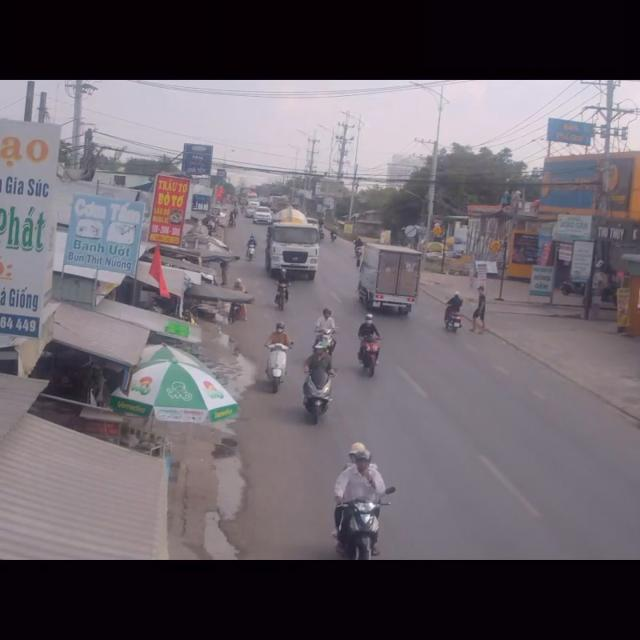motorbike: (334, 441, 388, 560), (300, 346, 333, 426), (354, 314, 380, 382), (266, 322, 290, 394), (315, 307, 337, 353), (444, 289, 463, 337), (274, 269, 293, 311)
truck: (356, 242, 418, 320), (265, 221, 321, 284)
